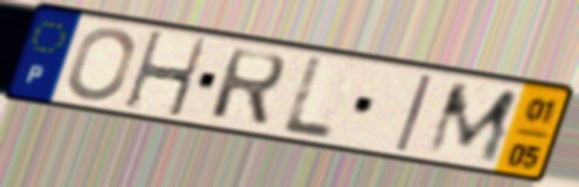H: (121, 28, 211, 121)
I: (392, 71, 437, 155)
L: (277, 54, 336, 143)
M: (421, 81, 523, 166)
O: (64, 26, 137, 103)
R: (206, 45, 289, 130)
